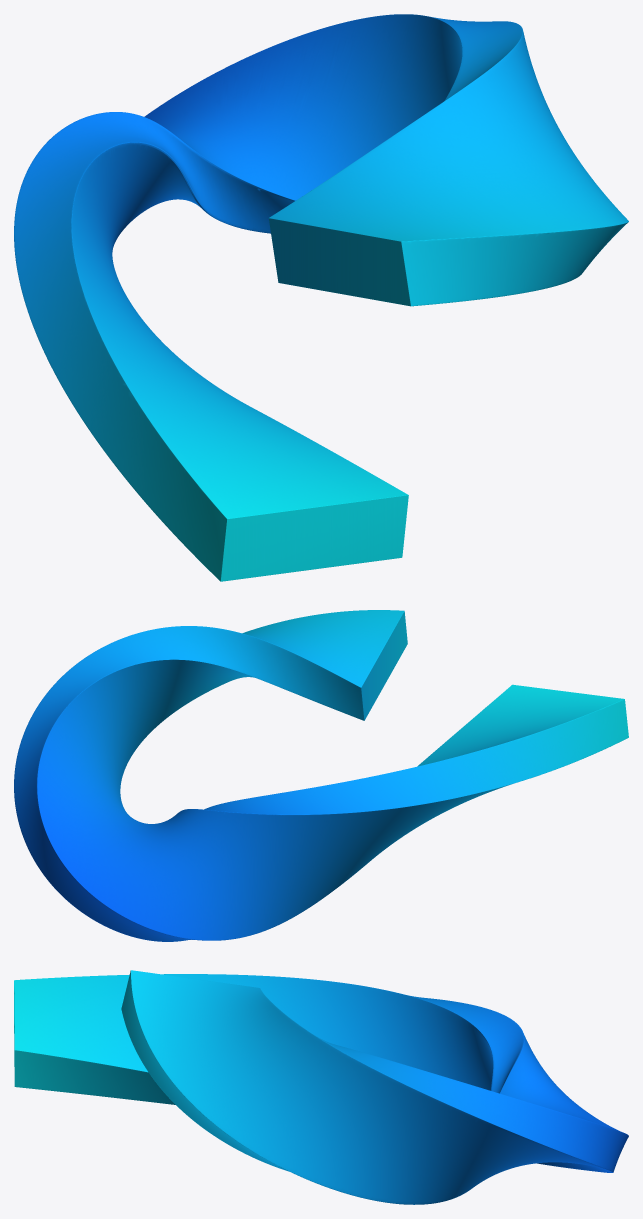
3 renders of one model, top to bottom at view 1: azimuth 30°, elevation 25°; view 2: azimuth 150°, elevation 25°; view 3: azimuth 270°, elevation 25°, orthographic. The views are drawn at different scales.
Visible parts, largest first — view 1: BézierCurve.005; view 2: BézierCurve.005; view 3: BézierCurve.005.
Part boxes in pixels (x1,y1,x2,y2): BézierCurve.005: (14,14,628,581); BézierCurve.005: (14,610,628,941); BézierCurve.005: (14,970,628,1204).
Size of the model in its own units: 0.2608 by 0.1289 by 0.3555.
1 material, 1 textured.
